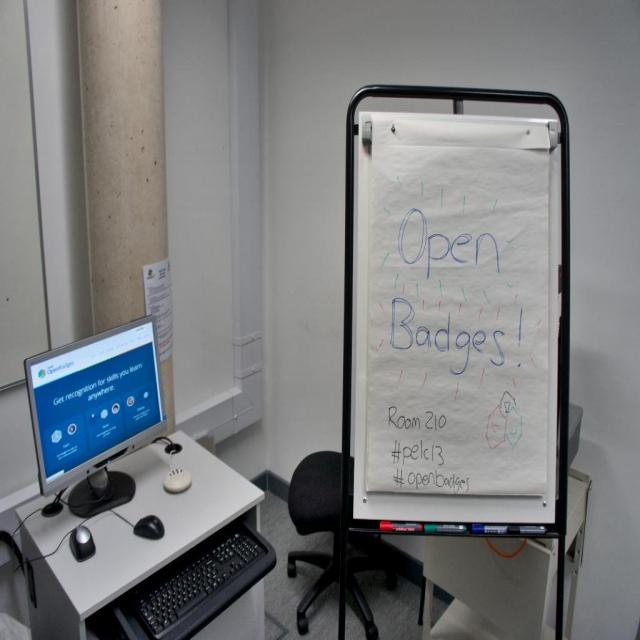chair: (286, 450, 377, 638)
desk: (16, 434, 264, 639)
keyboard: (120, 528, 269, 637)
mouse: (70, 524, 96, 561), (134, 514, 165, 540), (163, 467, 193, 493)
tv: (347, 94, 569, 538), (23, 314, 169, 503)
